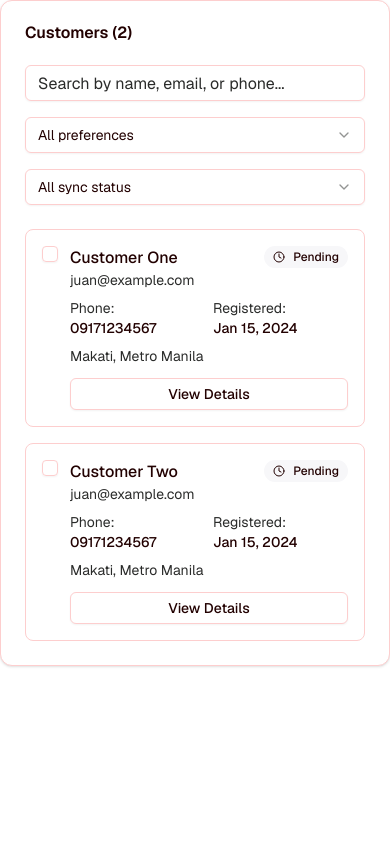
Scenario: Edge Cases and Boundary Conditions › should handle empty search query
The width and height of the screenshot is (390, 844).
In the field with placeholder "Search by name, email, or phone...": (195, 83) [25,65,365,101], type "test"
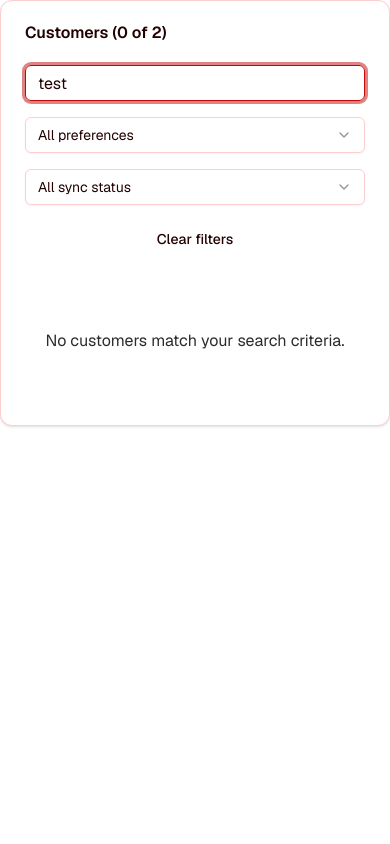
Clear the field with placeholder "Search by name, email, or phone...": (195, 83) [25,65,365,101]
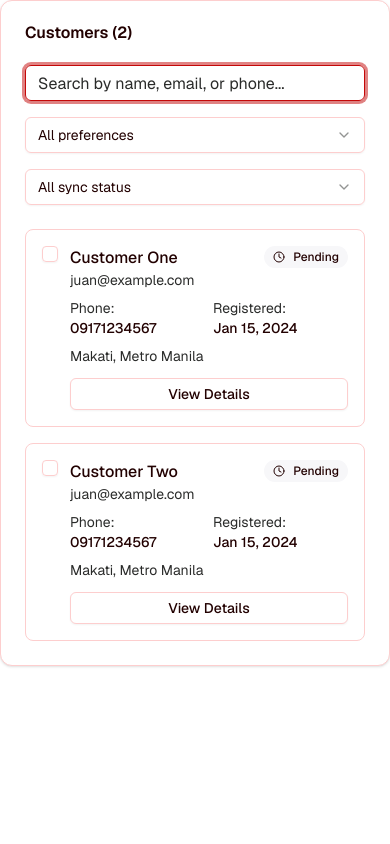
Now the heading "Customer One" is shown, box [70,247,178,268]
Now the heading "Customer Two" is shown, box [70,461,178,482]
